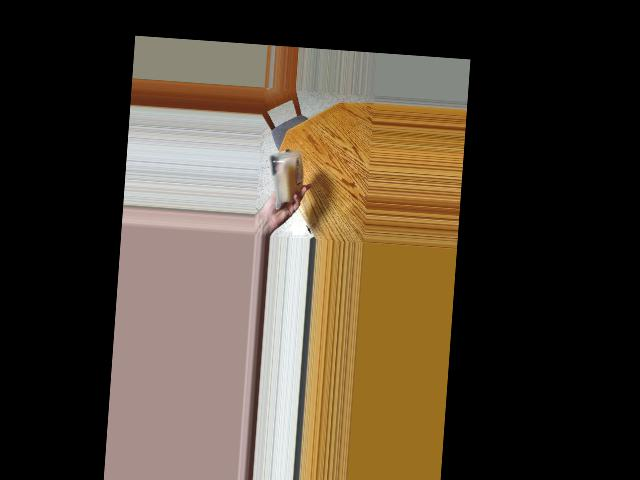cheese: (270, 152, 304, 201)
